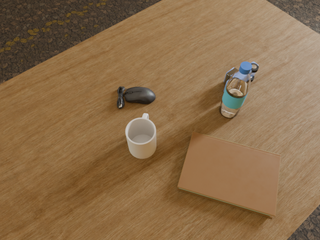book: (177, 132, 281, 218)
bottle: (219, 62, 252, 118)
cup: (126, 113, 156, 159)
mouse: (117, 87, 155, 109)
toy_car: (224, 62, 259, 91)
